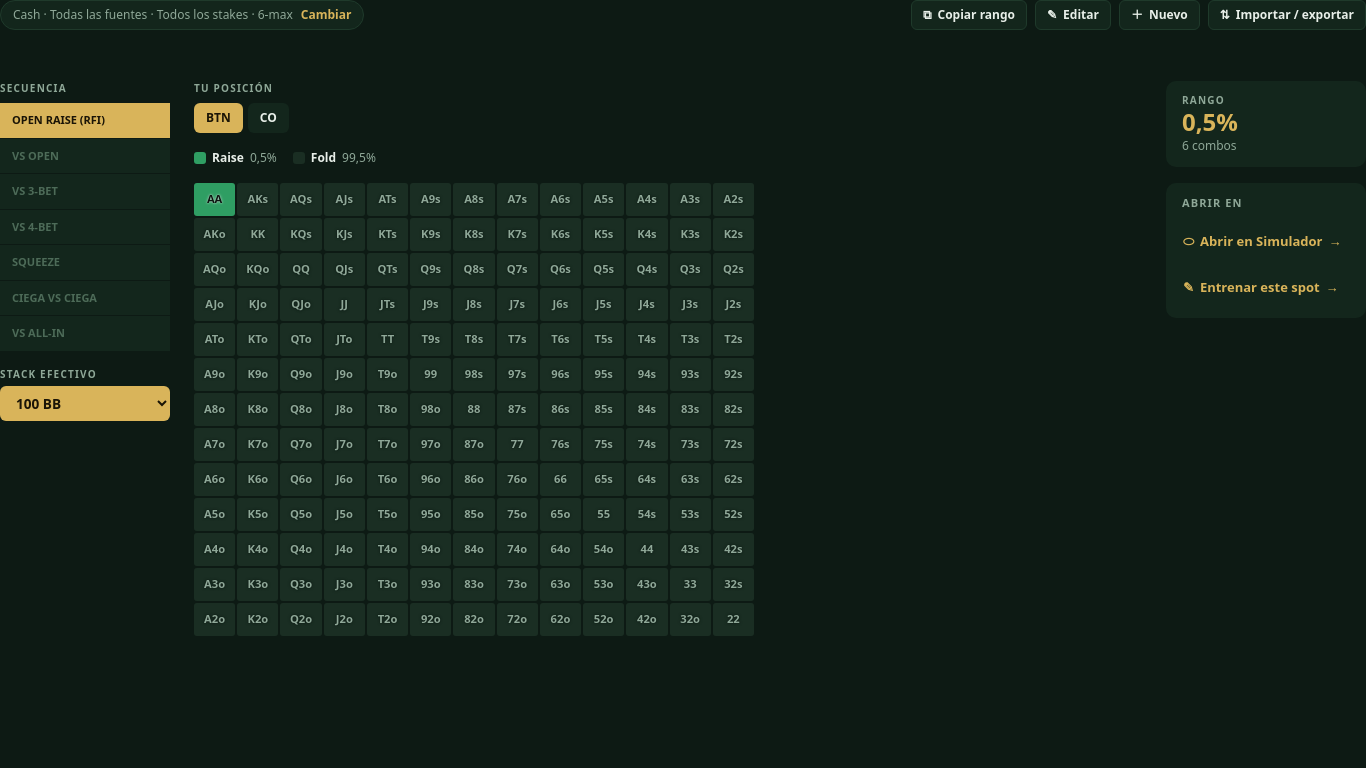
Test: PreflopPage › keeps the viewer selection after managing or editing charts
The width and height of the screenshot is (1366, 768).
Click the radio button labelled "CO". click: (268, 118)
box: [248,103,289,133]
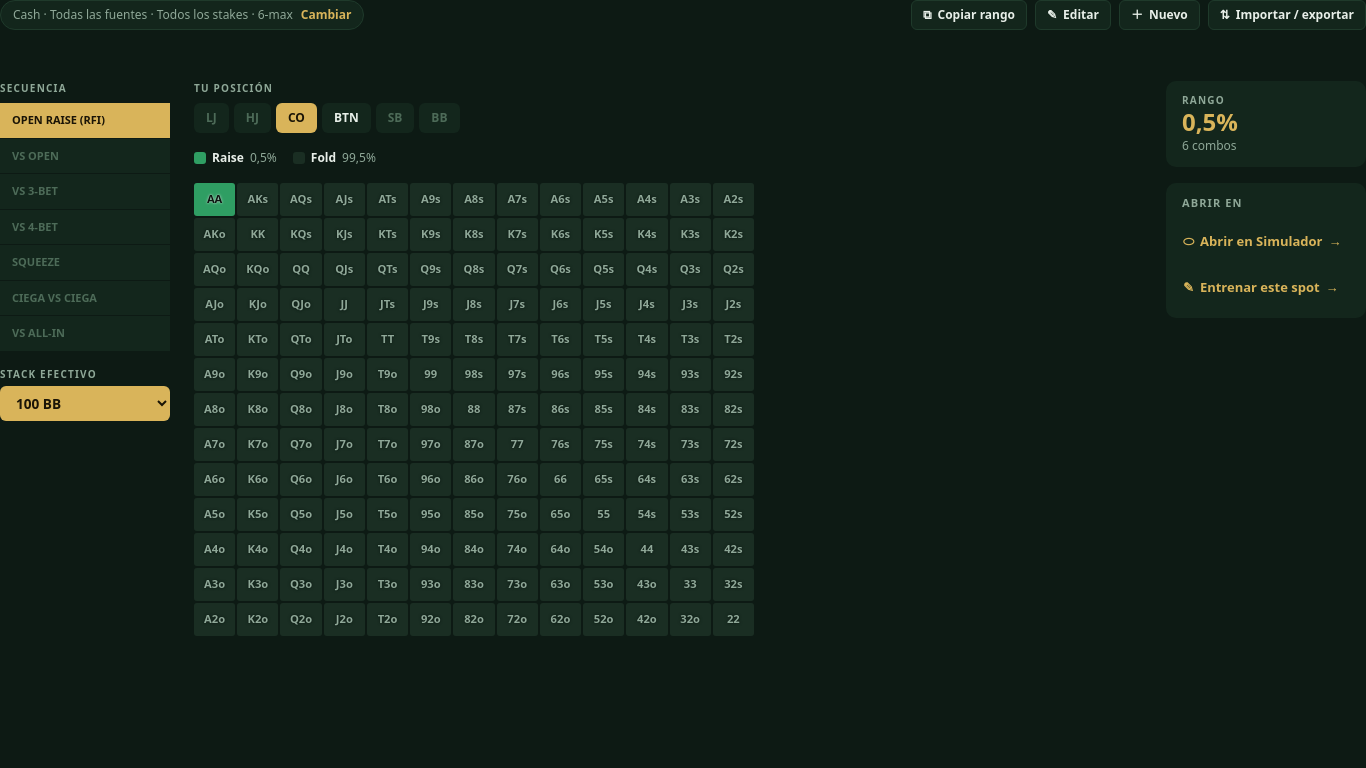
Expected: the element named "Rango CO open" is shown, [194,183,754,636]
Click the button "⇅ Importar / exportar". click: (1287, 15)
box: [1208,0,1365,30]
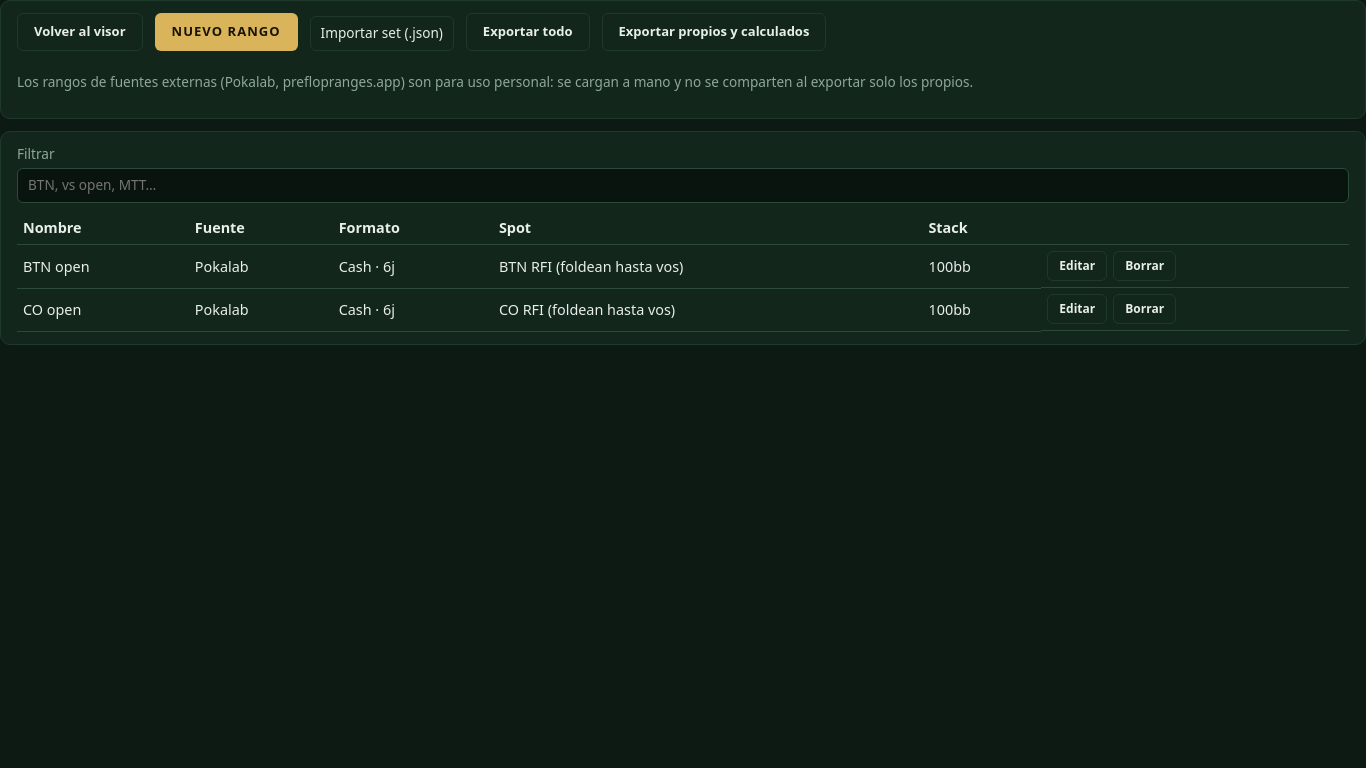
Click the button "Volver al visor". click: (80, 32)
box: [17,13,142,50]
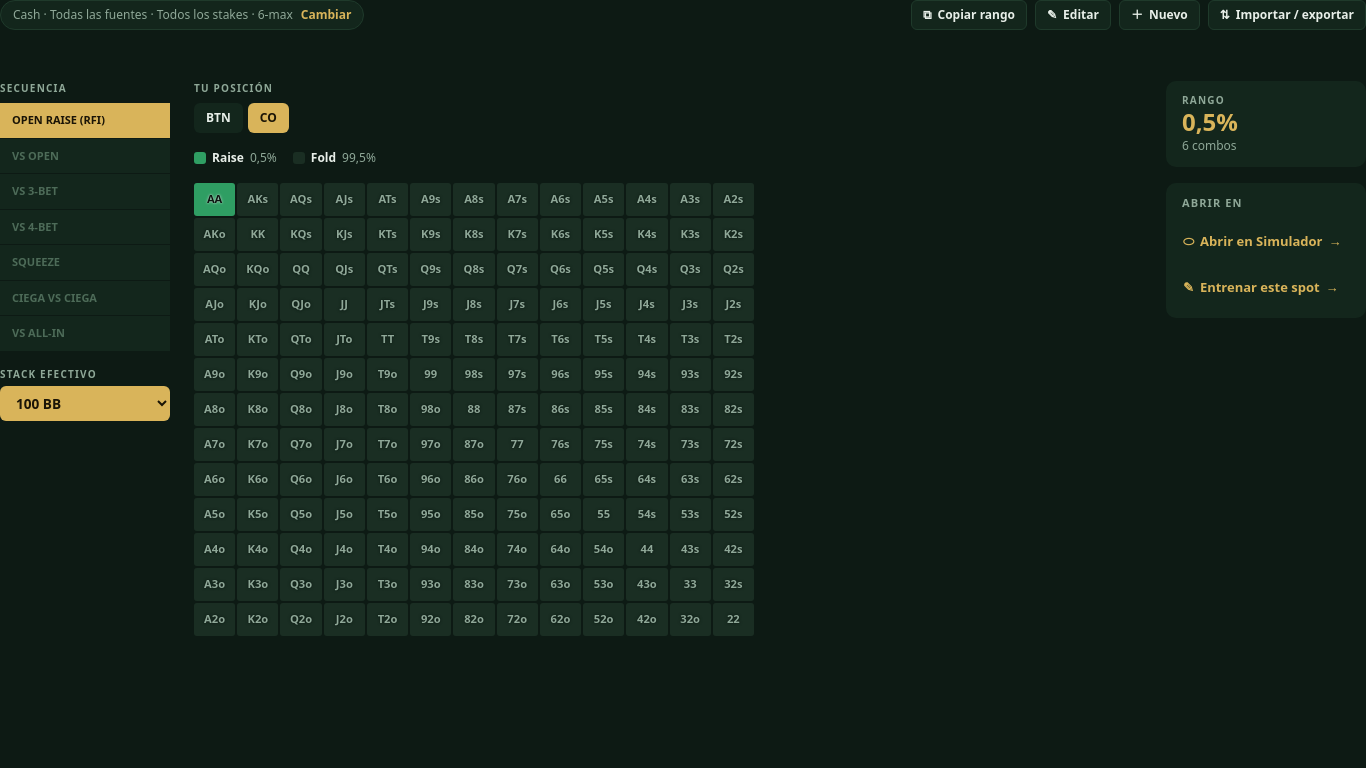
Result: the element named "Rango CO open" is shown at [194,183,754,636]
Click the button "✎ Editar". click: (1073, 15)
box: [1035,0,1111,30]
(page scrolled)
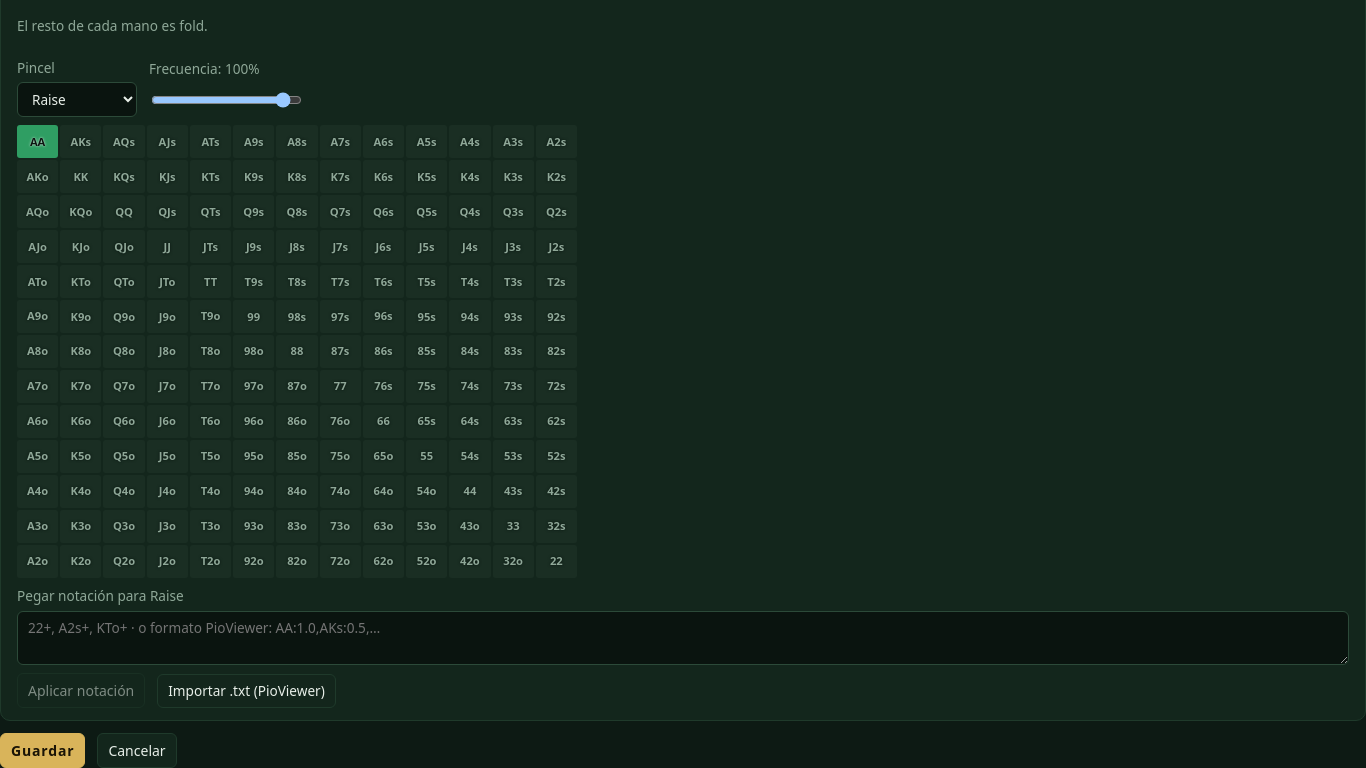
Click the button "Cancelar". click: (137, 751)
box: [97,734,177,767]
(page scrolled)
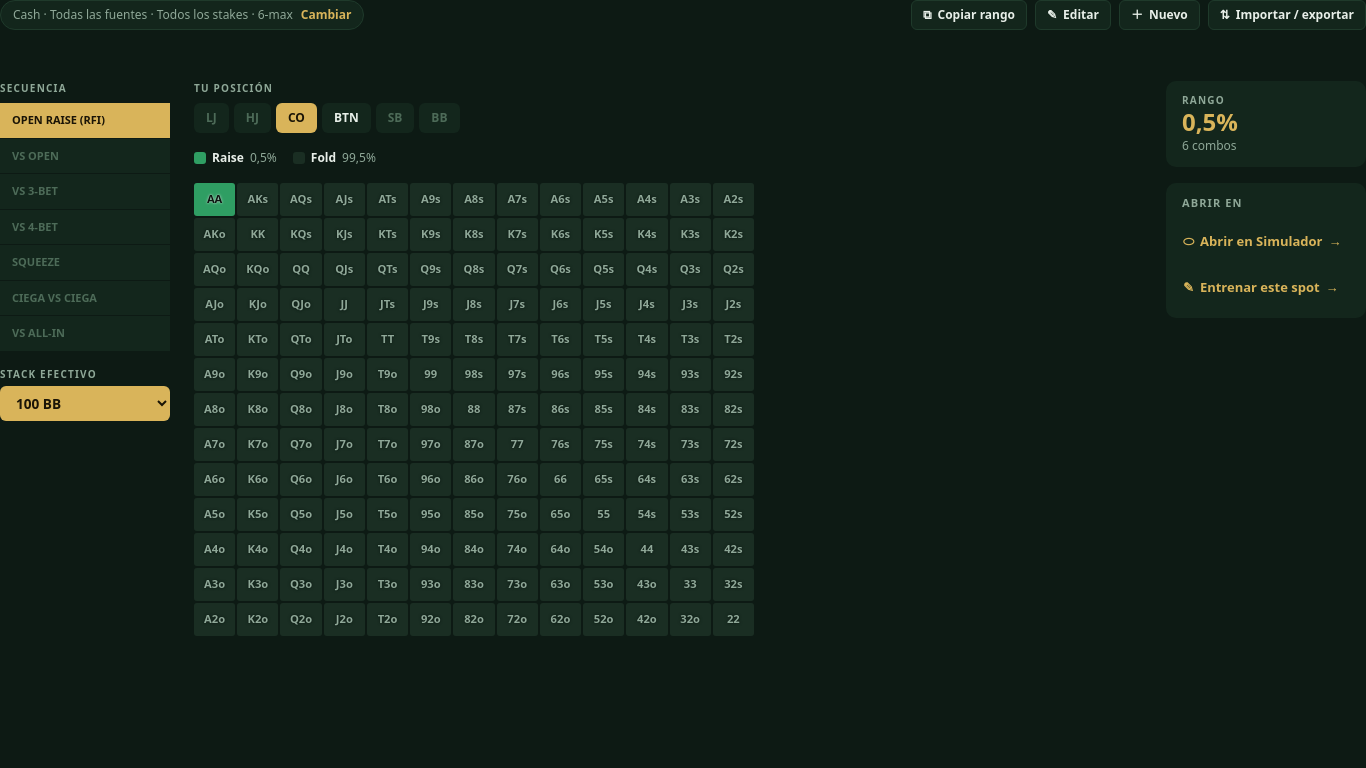
Result: the element named "Rango CO open" is shown at [194,183,754,636]
